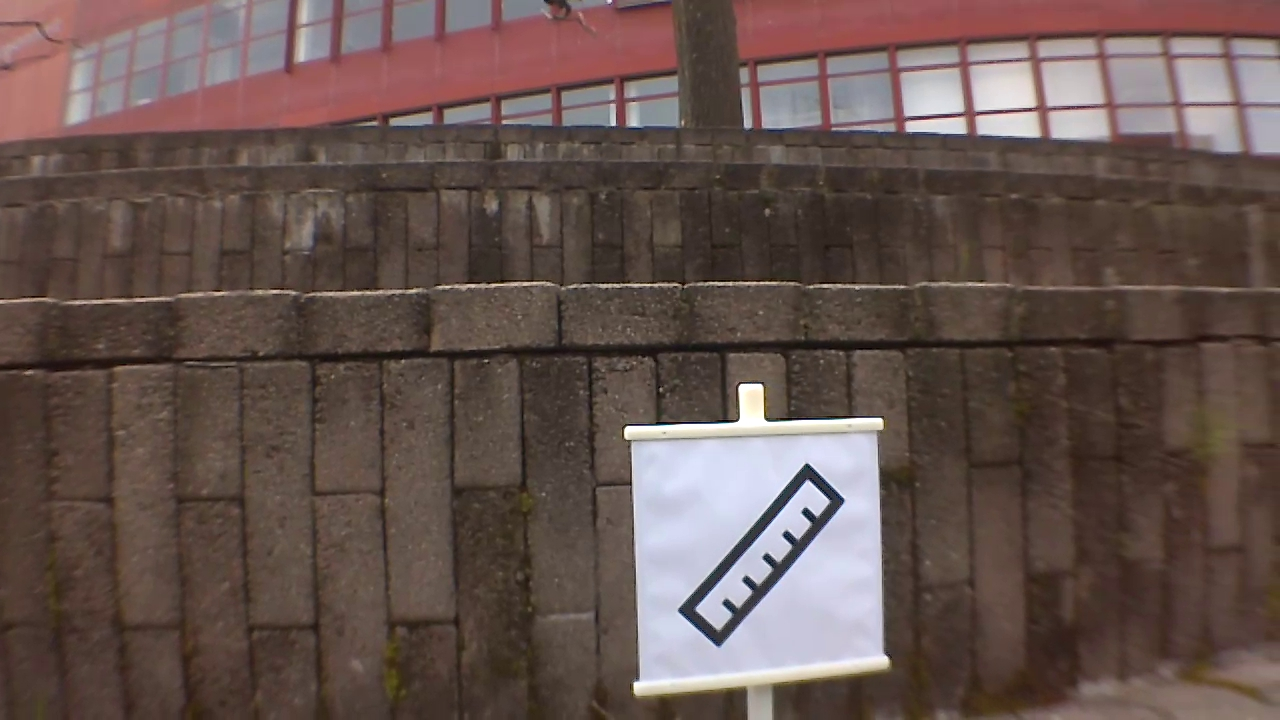ruler: (679, 462, 848, 647)
